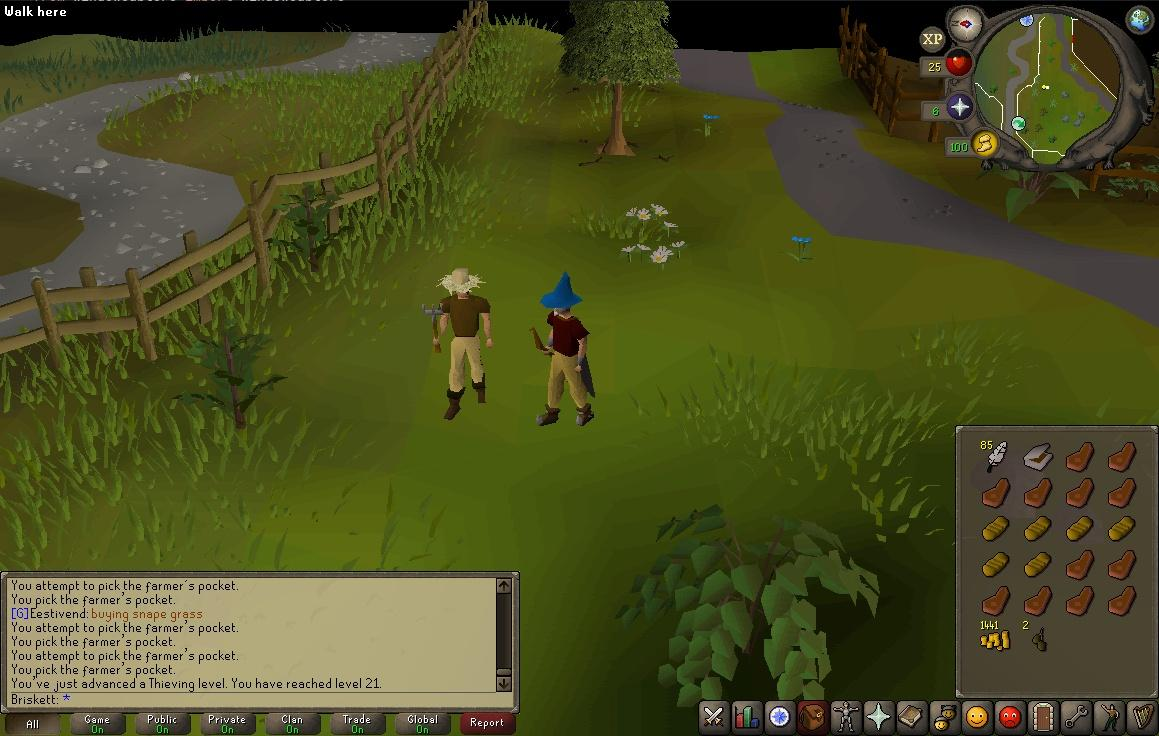Farmer: (431, 267, 494, 421)
